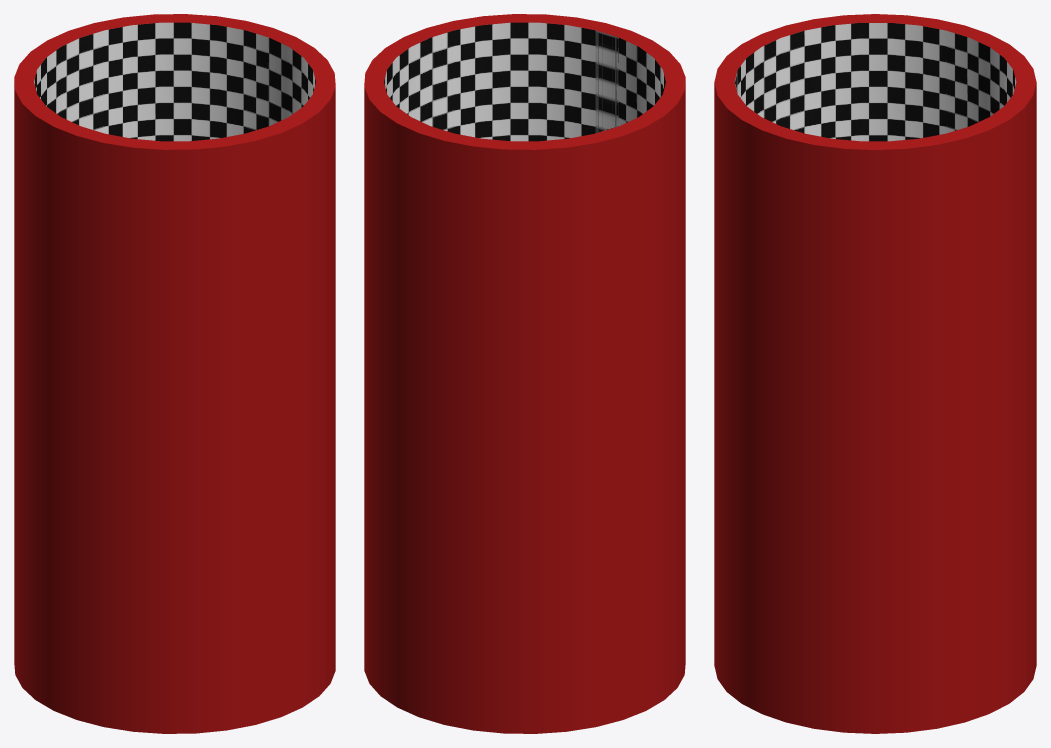
Rendered from Pill_Bottle_2.glb.
3 renders of one model, left to right at view 1: azimuth 30°, elevation 25°; view 2: azimuth 150°, elevation 25°; view 3: azimuth 270°, elevation 25°, orthographic.
Parts seen in each view (by area): view 1: Part, Part 2; view 2: Part, Part 2; view 3: Part, Part 2.
Part boxes in pixels (box(x1,y1,x2,y2)): Part: box(14, 14, 335, 733); Part 2: box(34, 22, 315, 141); Part: box(364, 14, 685, 733); Part 2: box(384, 22, 665, 141); Part: box(714, 14, 1036, 733); Part 2: box(734, 23, 1016, 141).
Bounding box in the file's own units: 0.0254 × 0.0508 × 0.0254.
2 materials, 1 textured.
